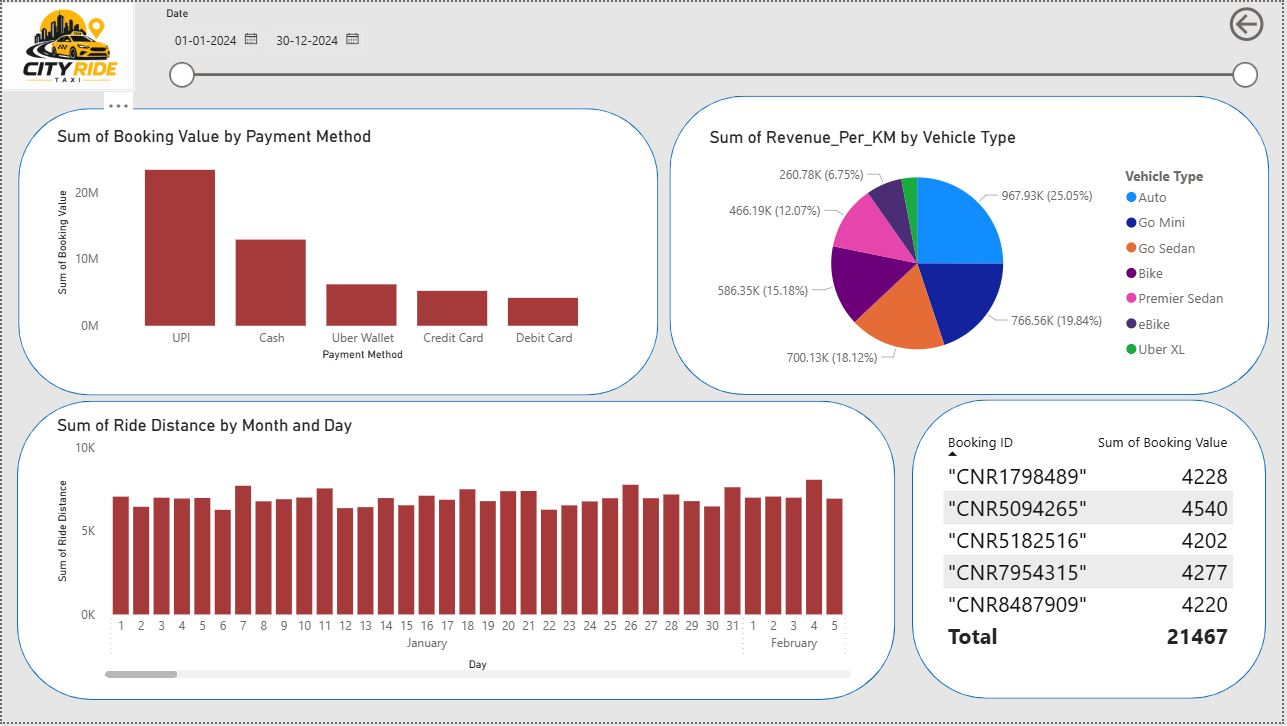

The dashboard page shown, as its layout file describes it:
{"tool":"powerbi","page":{"name":"Revenue","canvas":[1280,720],"ordinal":3},"visuals":[{"type":"shape","box":[909.8,397.9,354,299.1],"z":0},{"type":"shape","box":[15.1,399.3,878.2,299.1],"z":1000},{"type":"shape","box":[666.9,93.3,599.7,299.1],"z":2000},{"type":"shape","box":[15.7,105.7,640,287.1],"z":3000},{"type":"columnChart","fields":{"Category":["rideBookings.Date.Variation.Date Hierarchy.Month","rideBookings.Date.Variation.Date Hierarchy.Day"],"Y":["Sum(rideBookings.Ride Distance)"]},"box":[49.4,413,804.1,269],"z":4000},{"type":"columnChart","fields":{"Category":["rideBookings.Payment Method"],"Y":["Sum(rideBookings.Booking Value)"]},"box":[50,124.3,570,240],"z":5000},{"type":"slicer","fields":{"Values":["rideBookings.Date"]},"box":[151.4,0,1112.9,88.6],"z":6000},{"type":"tableEx","fields":{"Values":["rideBookings.Booking ID","Sum(rideBookings.Booking Value)"]},"box":[934.5,424,303.3,249.7],"z":7000},{"type":"image","box":[0,0,132.9,88.6],"z":8000},{"type":"pieChart","fields":{"Category":["rideBookings.Vehicle Type"],"Y":["Sum(rideBookings.Revenue_Per_KM)"]},"box":[702.6,124.9,533.8,253.9],"z":9000},{"type":"actionButton","box":[1222.9,0,57.1,44.3],"z":10000}]}

Visuals, with their boxes in screenshot pixels (x1, y1, x2, y2), scaled from the page's 1280x720 canvas onto the 1287x726 screenshot:
shape: x1=915 y1=401 x2=1271 y2=703
shape: x1=15 y1=403 x2=898 y2=704
shape: x1=671 y1=94 x2=1274 y2=396
shape: x1=16 y1=107 x2=659 y2=396
columnChart - rideBookings.Date.Variation.Date Hierarchy.Month x rideBookings.Date.Variation.Date Hierarchy.Day: x1=50 y1=416 x2=858 y2=688
columnChart - rideBookings.Payment Method x Sum(rideBookings.Booking Value): x1=50 y1=125 x2=623 y2=367
slicer - rideBookings.Date: x1=152 y1=0 x2=1271 y2=89
tableEx - rideBookings.Booking ID x Sum(rideBookings.Booking Value): x1=940 y1=428 x2=1245 y2=679
image: x1=0 y1=0 x2=134 y2=89
pieChart - rideBookings.Vehicle Type x Sum(rideBookings.Revenue_Per_KM): x1=706 y1=126 x2=1243 y2=382
actionButton: x1=1230 y1=0 x2=1286 y2=45
